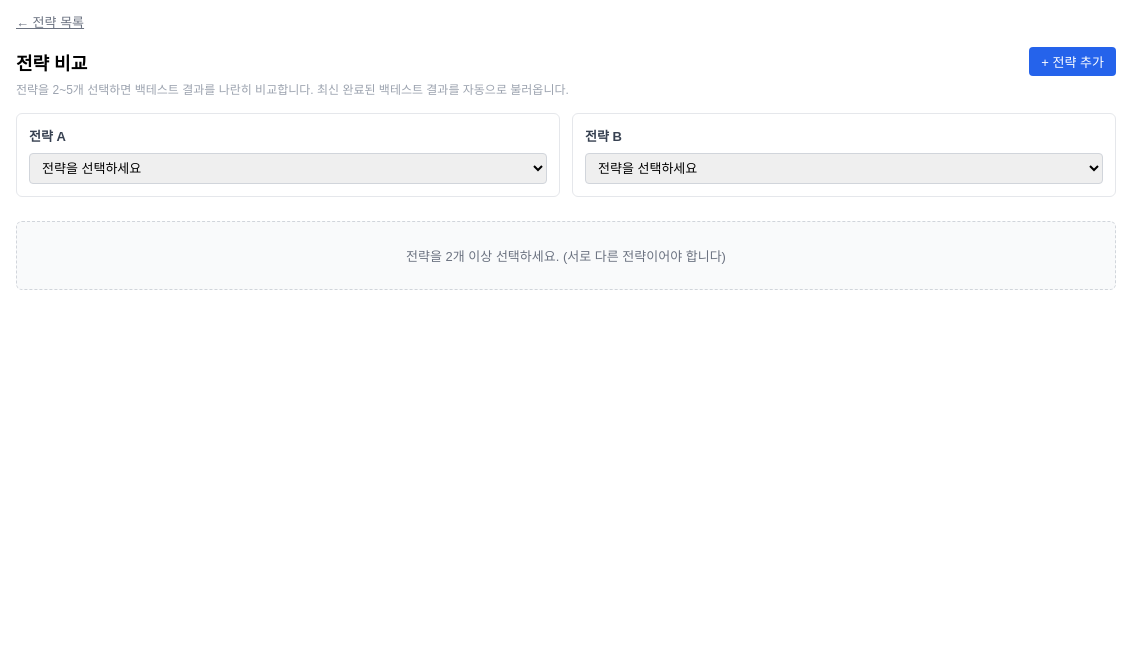
StrategyComparePage › 서로 다른 전략 2개 선택 시 비교 결과 영역 표시
The width and height of the screenshot is (1133, 662).
Select "전략 A" in the dropdown with test id "compare-left" at {"x": 288, "y": 168}, box [29, 153, 547, 184]
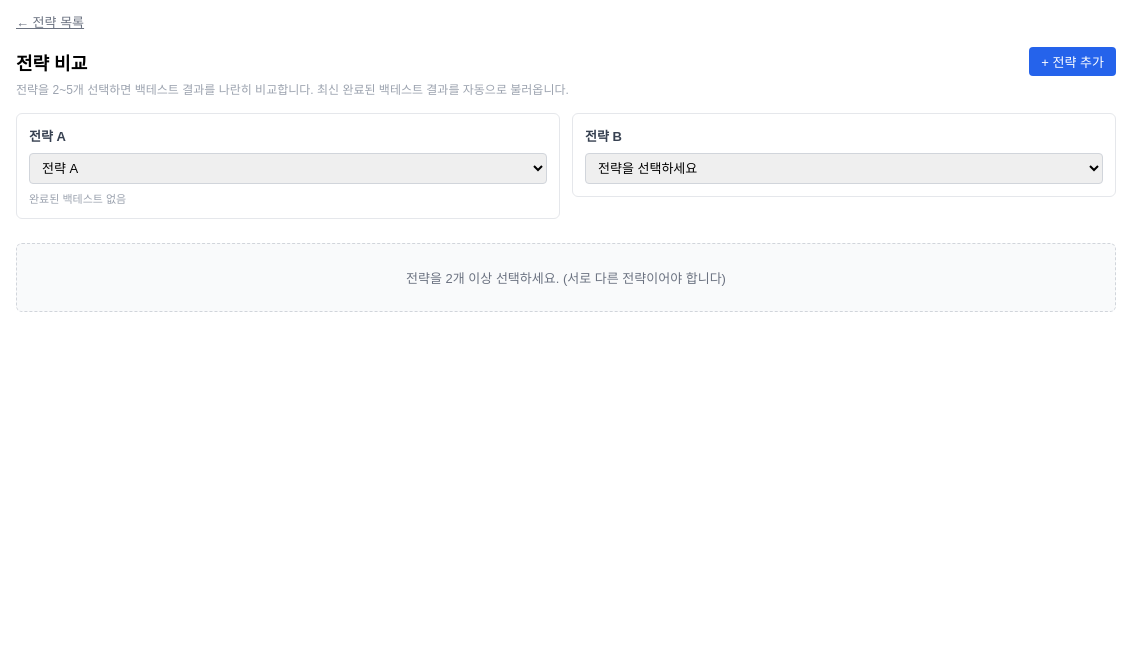
Select "전략 B" in the dropdown with test id "compare-right" at {"x": 844, "y": 168}, box [585, 153, 1103, 184]
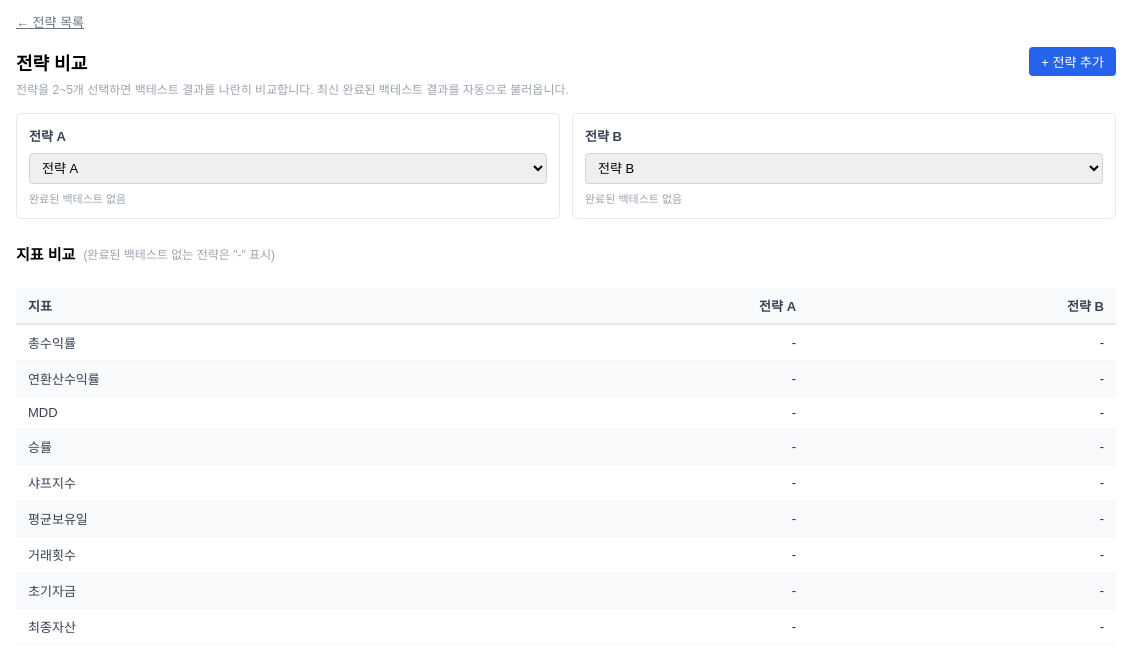
Check: the element with test id "compare-result" is shown, box [16, 243, 1116, 645]
Check: the table with test id "compare-table" is shown, box [16, 288, 1116, 645]
